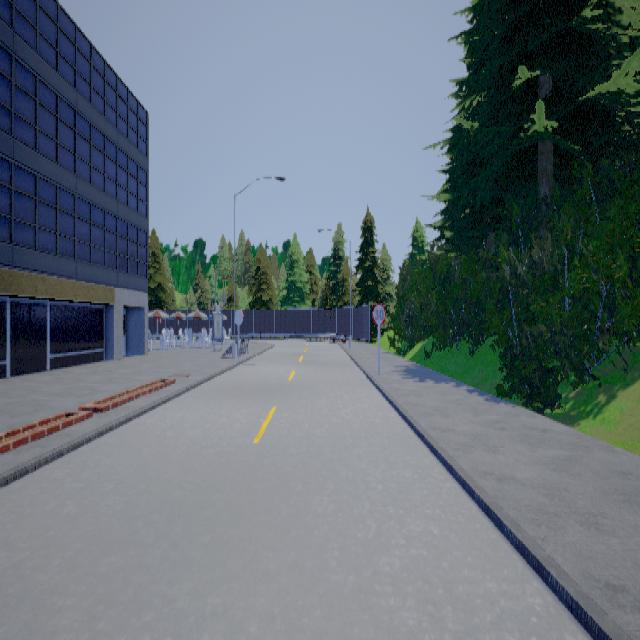traffic_sign: (371, 302, 385, 324)
